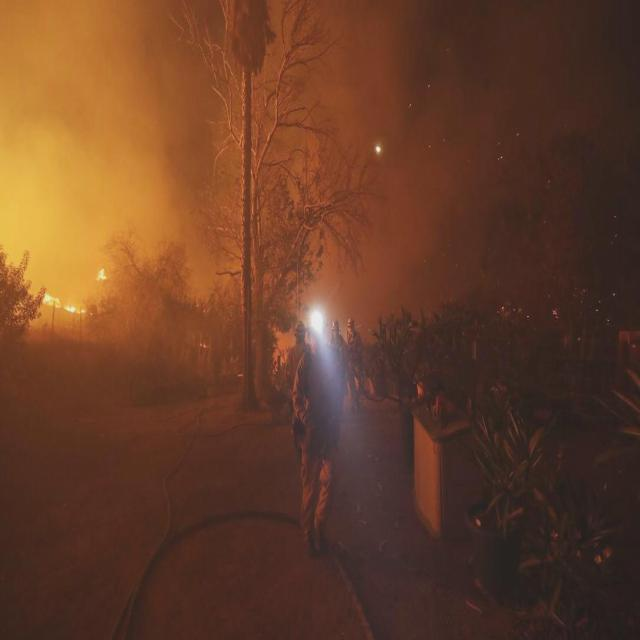Fire: (38, 283, 88, 313), (97, 270, 109, 284)
